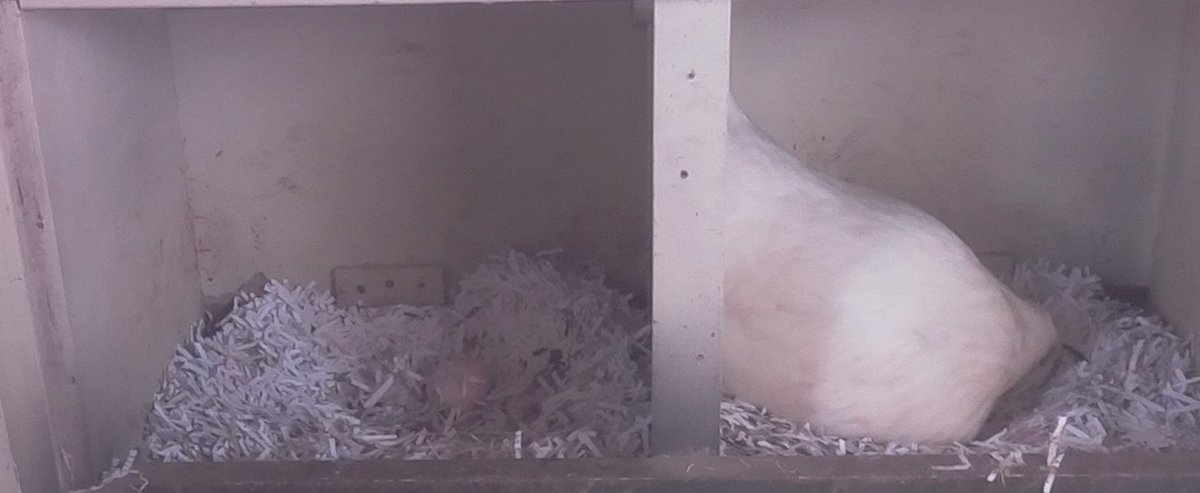egg: (419, 349, 503, 420)
hen: (730, 75, 1067, 449)
